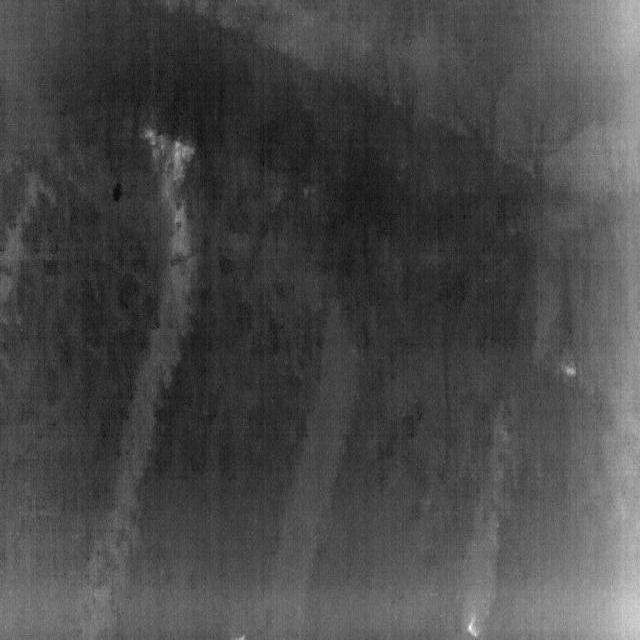deer: (466, 618, 480, 638), (231, 634, 247, 640)
